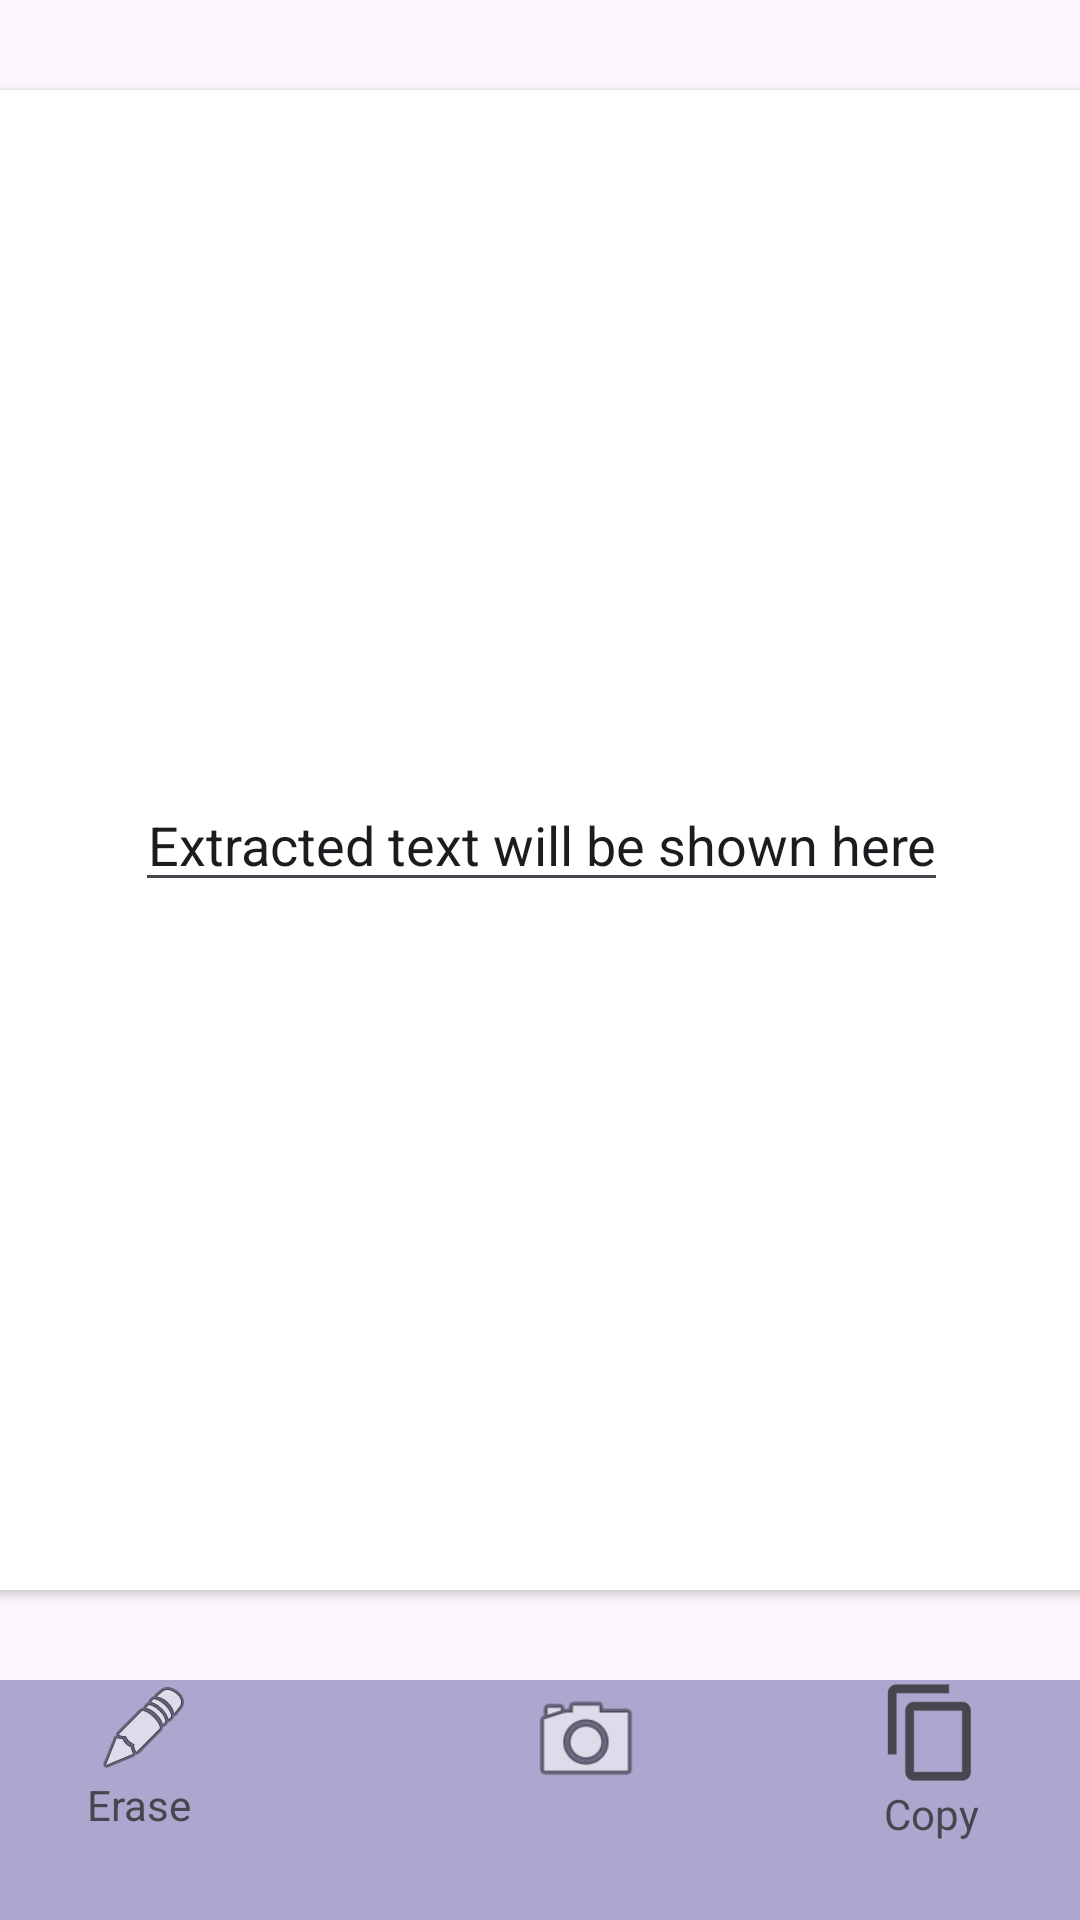

Icon click points for this 1080w x 1920h phone screenshot, format point (x, y):
camera: point (586, 1738)
edit: point (143, 1727)
